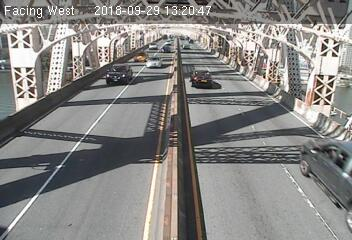car: (292, 133, 352, 237), (104, 62, 134, 86), (186, 69, 219, 90), (144, 56, 164, 68), (135, 50, 149, 63)
